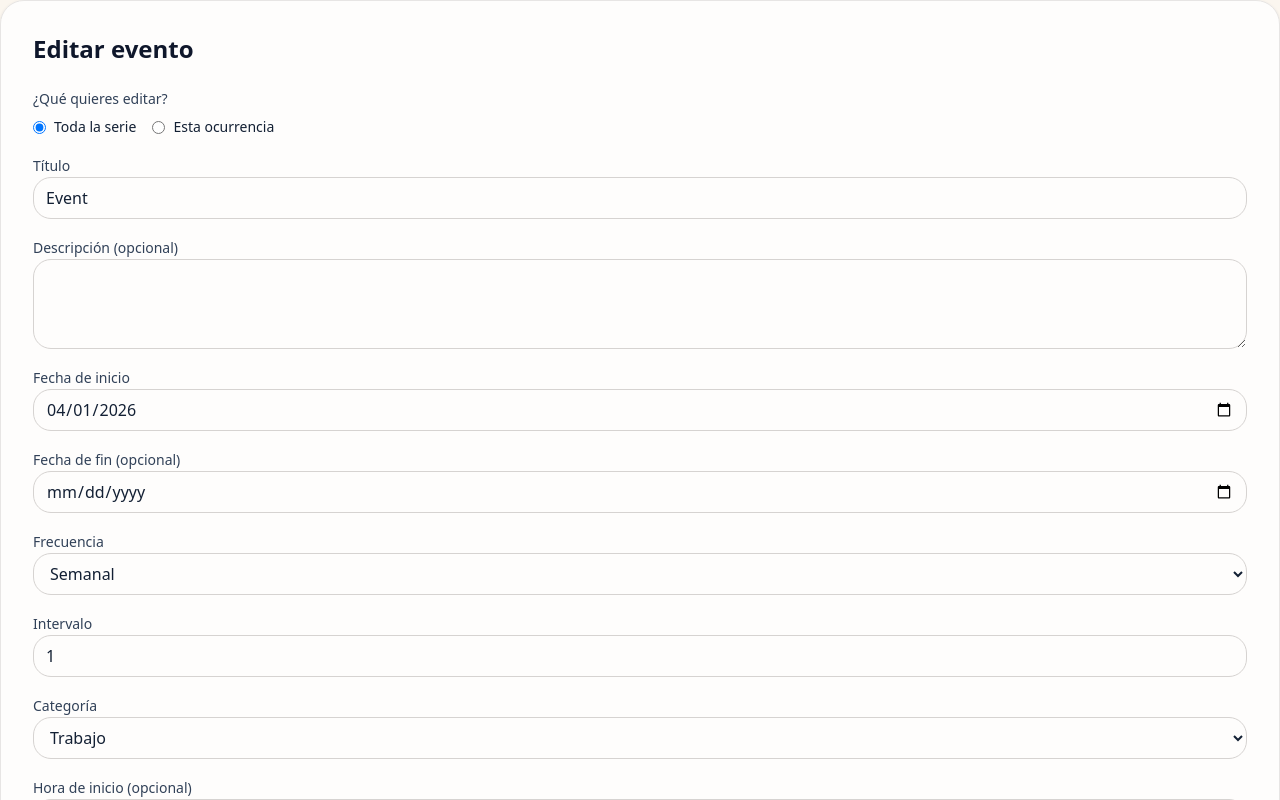
Scenario: EditEventForm › Recurring event - single occurrence scope › should include the occurrence date in form submission via hidden input
Step 1. Click the radio button labelled "Esta ocurrencia" → (159,127), box x1=152 y1=120 x2=165 y2=134
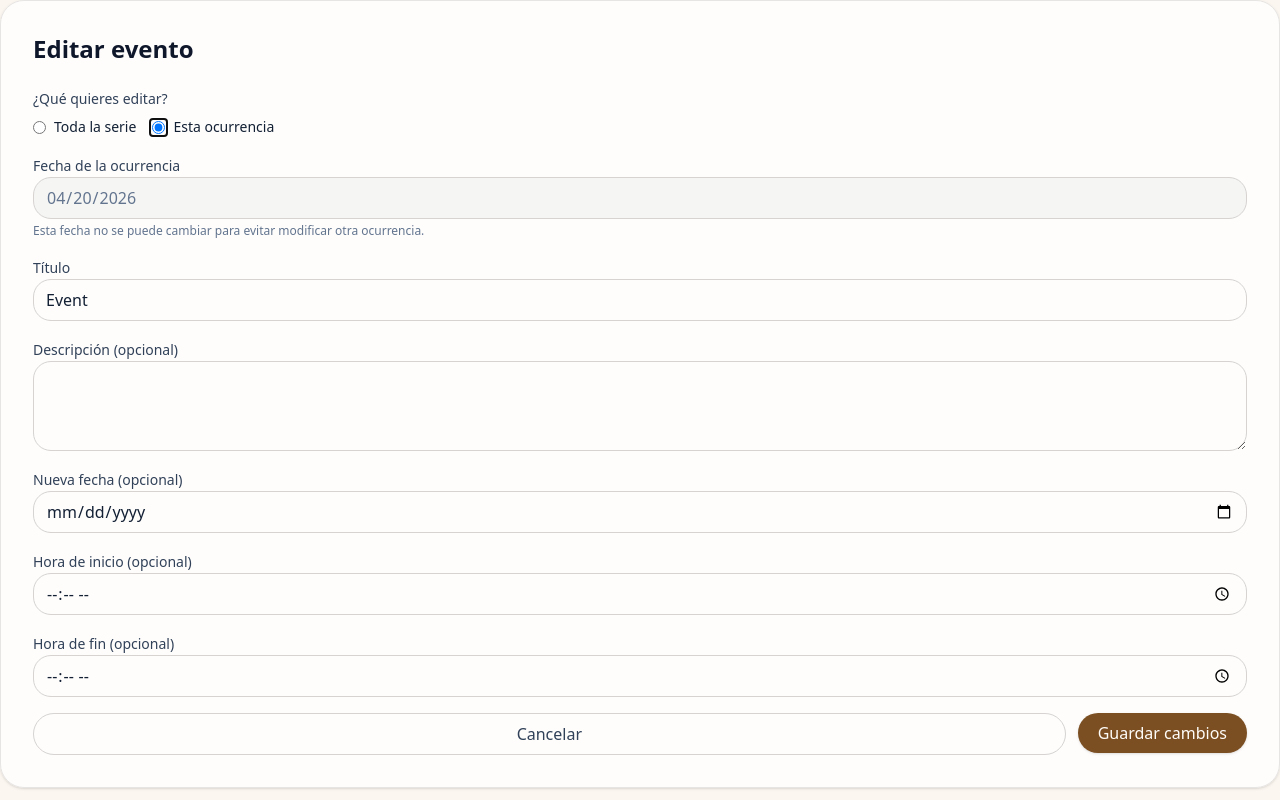
Check: the element named "occurrenceDate" holds "2026-04-20", box x1=33 y1=153 x2=1247 y2=239
